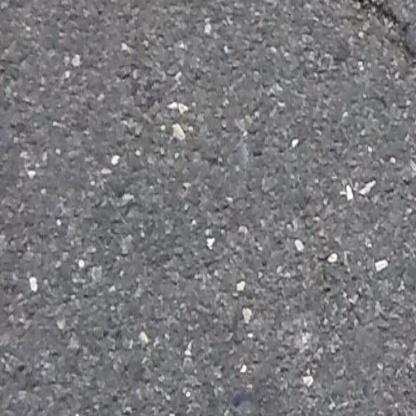Cracks: (345, 0, 416, 90)
